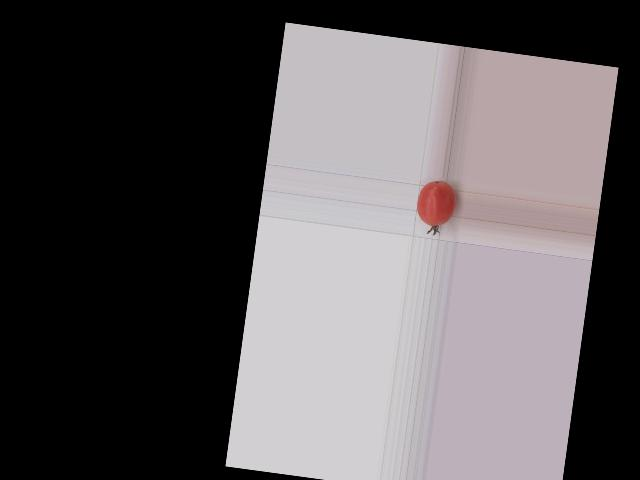tomato: (414, 178, 457, 228)
